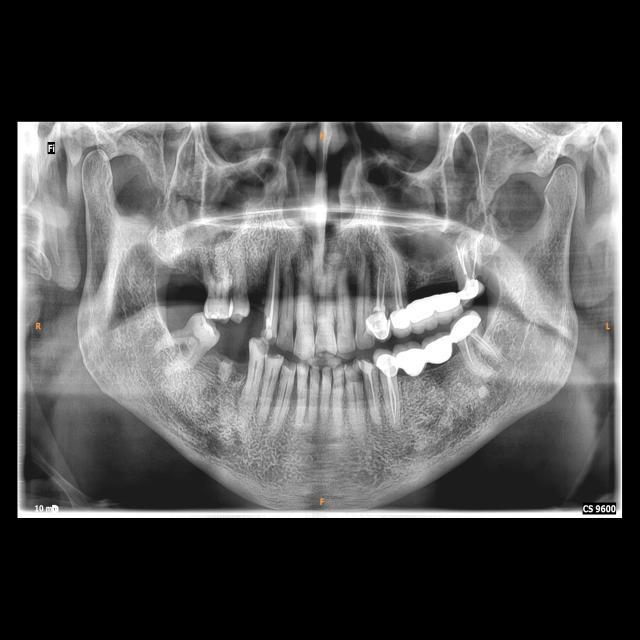dentin-curugu: (256, 338, 270, 358), (348, 368, 363, 382)
kanal-tedavisi: (452, 237, 482, 279), (265, 254, 282, 323), (387, 253, 406, 309), (460, 336, 496, 364), (374, 256, 386, 314), (386, 379, 401, 423), (367, 374, 380, 420)
kaplama: (448, 311, 482, 339), (366, 308, 391, 340), (457, 274, 484, 302), (390, 304, 410, 333), (376, 351, 397, 377)
kopru: (391, 325, 464, 386), (403, 279, 468, 333)
